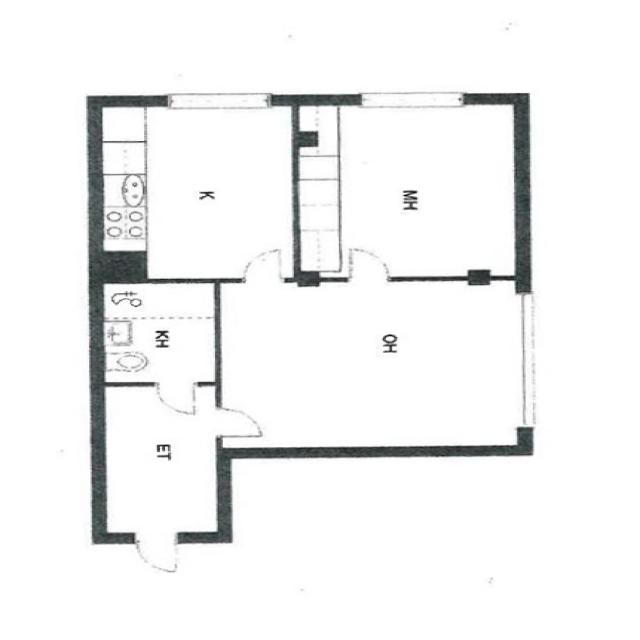door: (136, 532, 178, 573), (216, 408, 264, 437), (350, 250, 390, 283), (157, 381, 196, 413), (245, 252, 282, 283)
